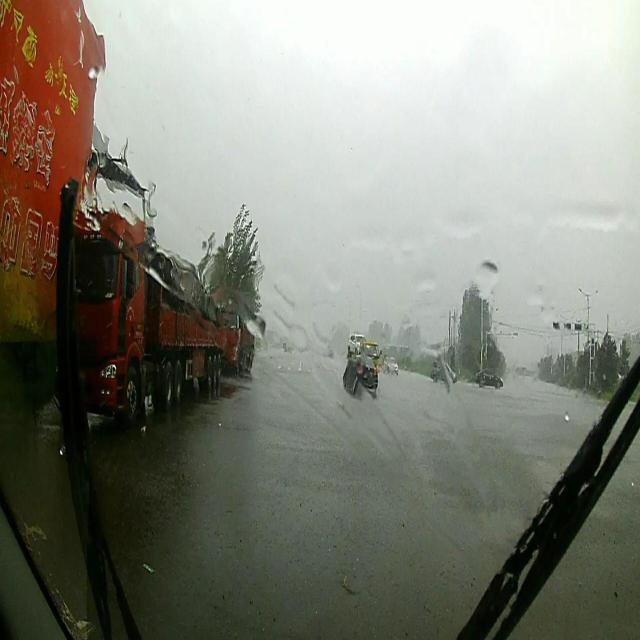car: (342, 356, 378, 398), (429, 359, 458, 383), (476, 369, 504, 387), (364, 341, 381, 368), (348, 333, 368, 354), (384, 356, 399, 374)
